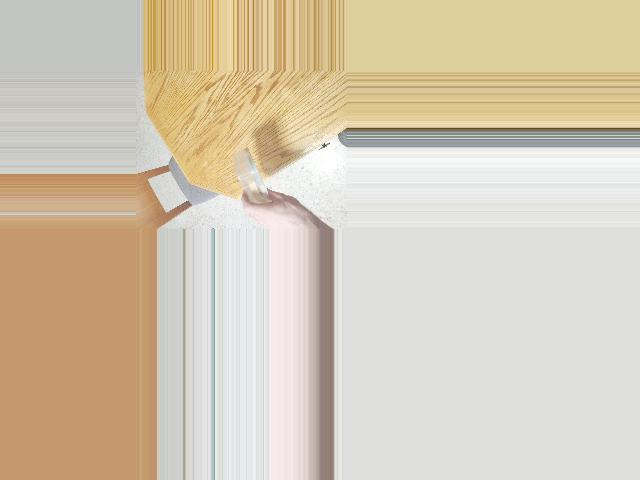cheese: (233, 145, 268, 211)
